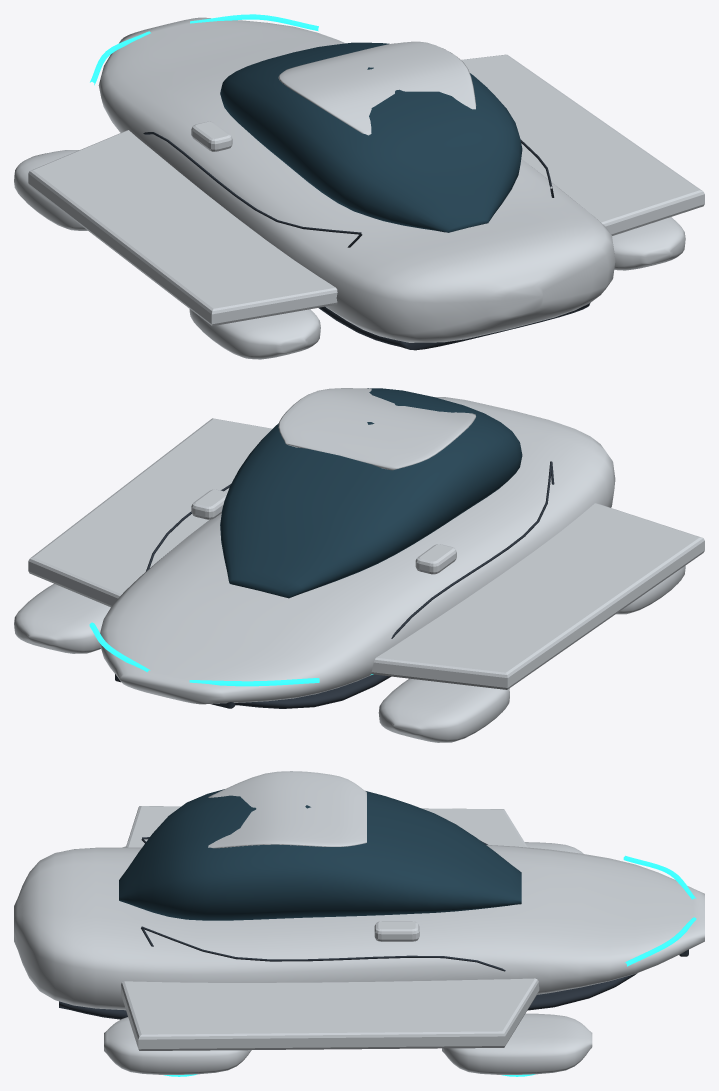
File: flying_car.gltf
3 views of the same model, one above another, from view 1: azimuth 30°, elevation 25°; view 2: azimuth 150°, elevation 25°; view 3: azimuth 270°, elevation 25° (orthographic). The views are drawn at different scales.
Parts seen in each view (by area): view 1: flying_car; view 2: flying_car; view 3: flying_car.
Part boxes in pixels (<box>): flying_car: <box>14,14,704,359</box>; flying_car: <box>14,388,704,742</box>; flying_car: <box>14,771,704,1076</box>.
Bounding box in the file's own units: 3.65 × 1.25 × 4.6.
